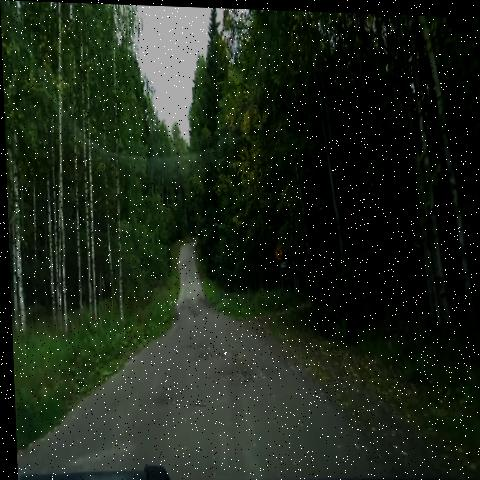pothole: (139, 381, 186, 426), (214, 354, 271, 387), (183, 393, 214, 419), (184, 294, 205, 330), (193, 346, 228, 366), (175, 335, 207, 355)
